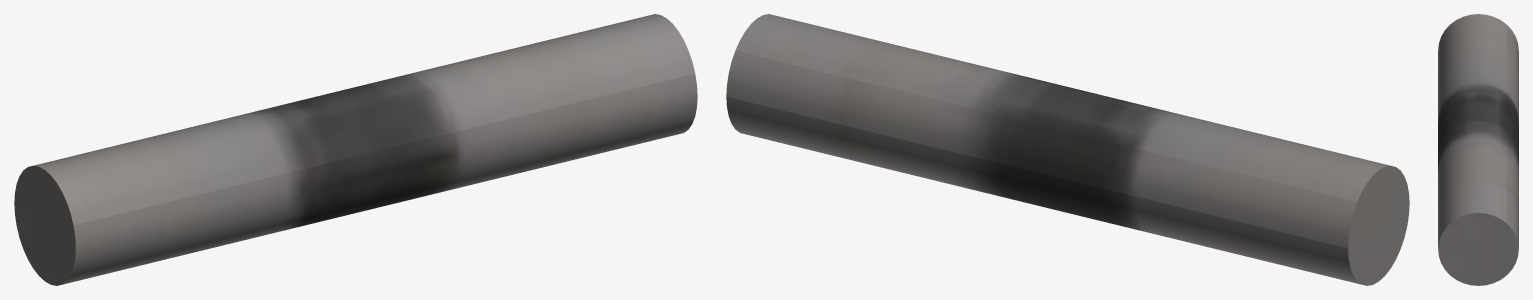
Rendered from housing__caster_axle_0.glb.
The picture shows the model from 3 angles, left to right: view 1: azimuth 30°, elevation 25°; view 2: azimuth 150°, elevation 25°; view 3: azimuth 270°, elevation 25°; orthographic projection. The views are drawn at different scales.
Visible parts, largest first — view 1: geometry_0; view 2: geometry_0; view 3: geometry_0.
Boxes of the visible parts, box(x1,y1,x2,y2) form: geometry_0: box(14, 14, 697, 285); geometry_0: box(726, 14, 1409, 285); geometry_0: box(1438, 14, 1518, 285).
Size of the model in its own units: 0.07 by 0.012 by 0.012.
1 material, 1 textured.
